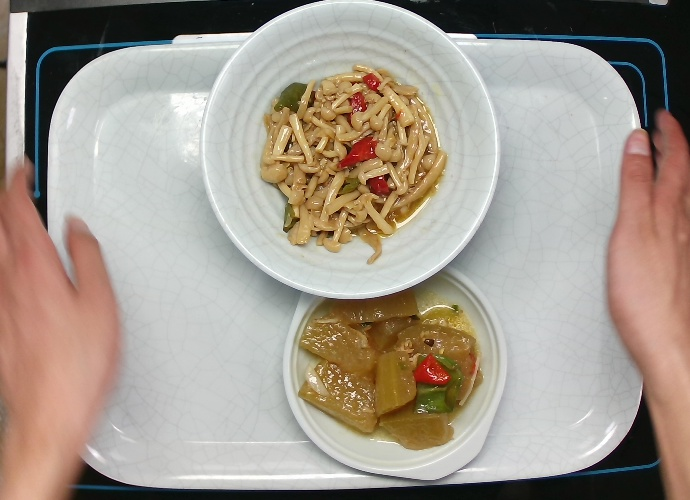JYsf-Shuang_Er_Pan: (278, 242, 510, 485)
JYsf-Xiao_Tang_Wan: (196, 2, 500, 307)
